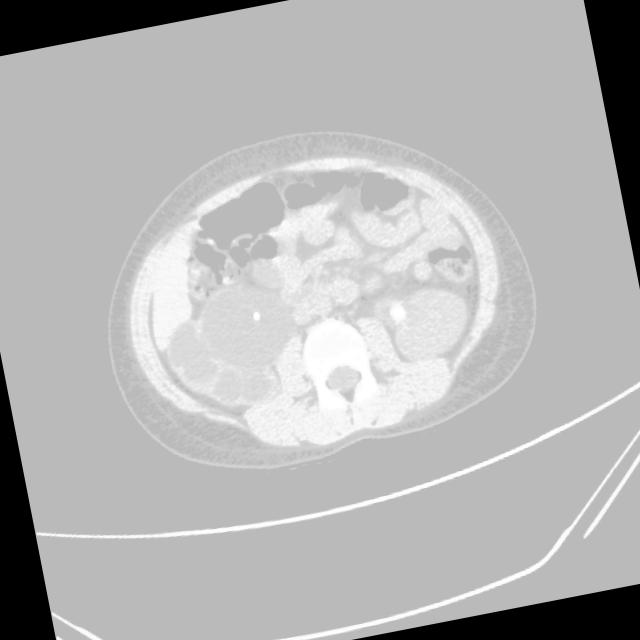STONE: (151, 85, 494, 352)
